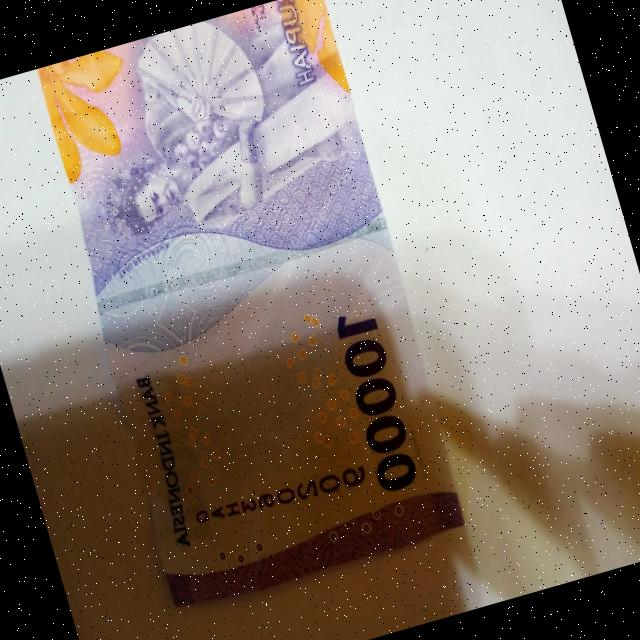10K: (10, 0, 485, 618)
